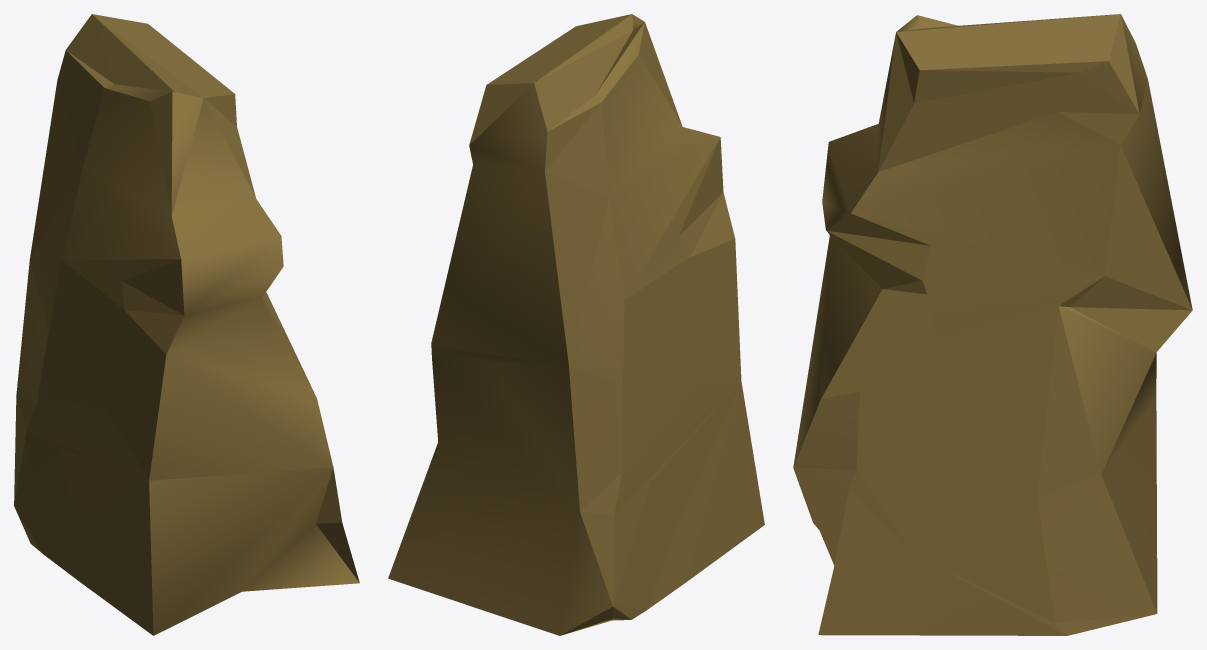
File: rune2.fbx
3 renders of one model, left to right at view 1: azimuth 30°, elevation 25°; view 2: azimuth 150°, elevation 25°; view 3: azimuth 270°, elevation 25°, orthographic. The views are drawn at different scales.
Parts seen in each view (by area): view 1: Pillar_09; view 2: Pillar_09; view 3: Pillar_09.
Part boxes in pixels (x1,y1,x2,y2): Pillar_09: (14,14,359,635); Pillar_09: (388,14,764,635); Pillar_09: (793,14,1192,635).
Size of the model in its own units: 162 by 367 by 241.
